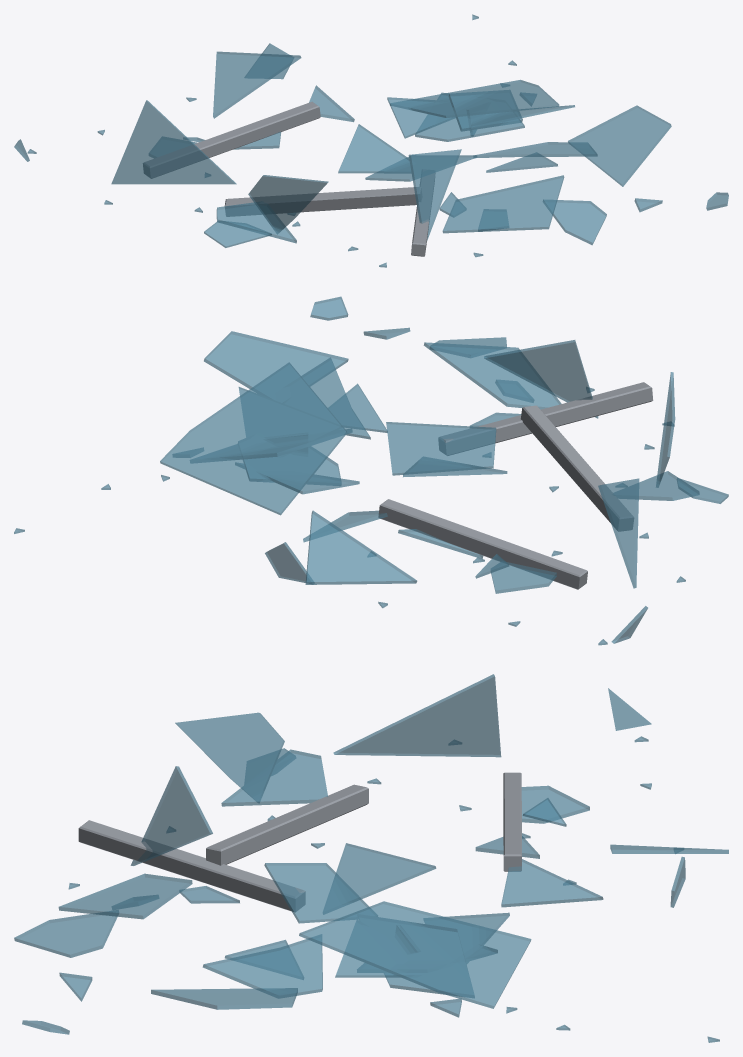
The model's file is DESTROY_14.obj.
The picture shows the model from 3 angles, top to bottom: view 1: azimuth 30°, elevation 25°; view 2: azimuth 150°, elevation 25°; view 3: azimuth 270°, elevation 25°; orthographic projection. The views are drawn at different scales.
Parts seen in each view (by area): view 1: DESTROY_14__shards_flat, DESTROY_14__shards_standing, DESTROY_14__frame_slivers, DESTROY_14__glass_crumbs; view 2: DESTROY_14__shards_flat, DESTROY_14__frame_slivers, DESTROY_14__shards_standing, DESTROY_14__glass_crumbs; view 3: DESTROY_14__shards_flat, DESTROY_14__shards_standing, DESTROY_14__frame_slivers, DESTROY_14__glass_crumbs.
Part boxes in pixels (x1,y1,x2,y2): DESTROY_14__shards_flat: (149,51,728,247); DESTROY_14__shards_standing: (14,43,490,240); DESTROY_14__frame_slivers: (143,101,435,256); DESTROY_14__glass_crumbs: (27,14,516,267); DESTROY_14__shards_flat: (160,296,728,593); DESTROY_14__frame_slivers: (378,382,653,589); DESTROY_14__shards_standing: (263,340,675,643); DESTROY_14__glass_crumbs: (14,387,685,645); DESTROY_14__shards_flat: (14,748,728,1034); DESTROY_14__shards_standing: (130,674,685,952); DESTROY_14__frame_slivers: (78,772,521,912); DESTROY_14__glass_crumbs: (68,736,719,1042).
Bounding box in the file's own units: 2.06 × 0.3299 × 1.94.
